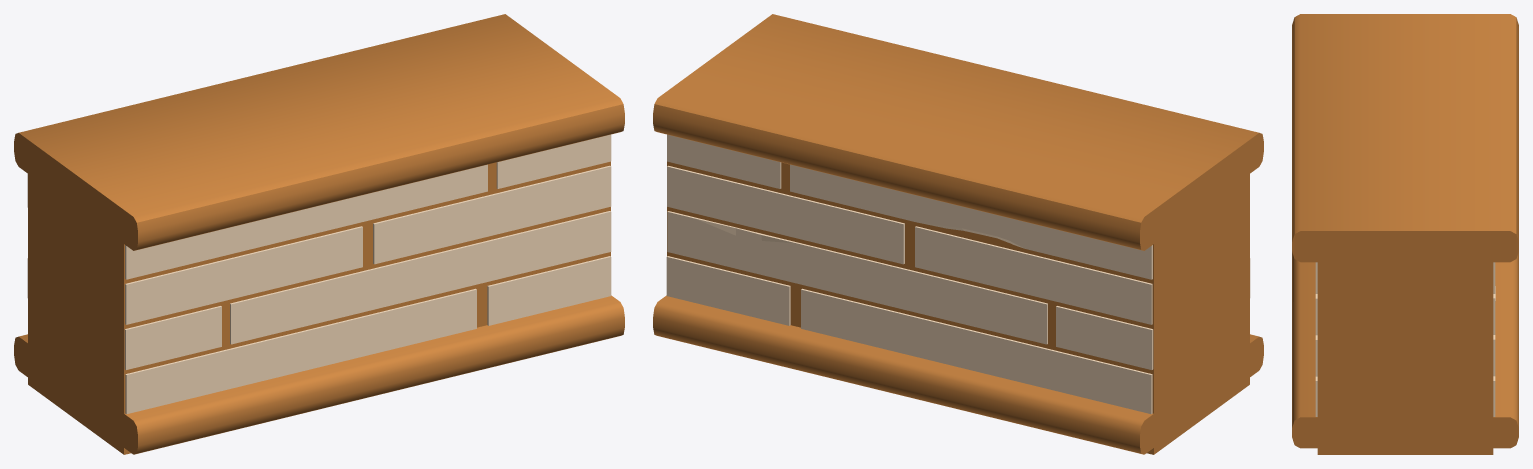
Rendered from Wall.fbx.
The picture shows the model from 3 angles, left to right: view 1: azimuth 30°, elevation 25°; view 2: azimuth 150°, elevation 25°; view 3: azimuth 270°, elevation 25°; orthographic projection. The views are drawn at different scales.
Visible parts, largest first — view 1: Environment_Counter_Straight, Environment_Counter_Straight.001; view 2: Environment_Counter_Straight, Environment_Counter_Straight.001; view 3: Environment_Counter_Straight, Environment_Counter_Straight.001.
Part boxes in pixels (x1,y1,x2,y2): Environment_Counter_Straight: (14, 14, 624, 454); Environment_Counter_Straight.001: (27, 134, 611, 414); Environment_Counter_Straight: (653, 14, 1263, 454); Environment_Counter_Straight.001: (666, 134, 1250, 414); Environment_Counter_Straight: (1292, 14, 1518, 454); Environment_Counter_Straight.001: (1315, 262, 1495, 416).
Bounding box in the file's own units: 400 × 192 × 177.
